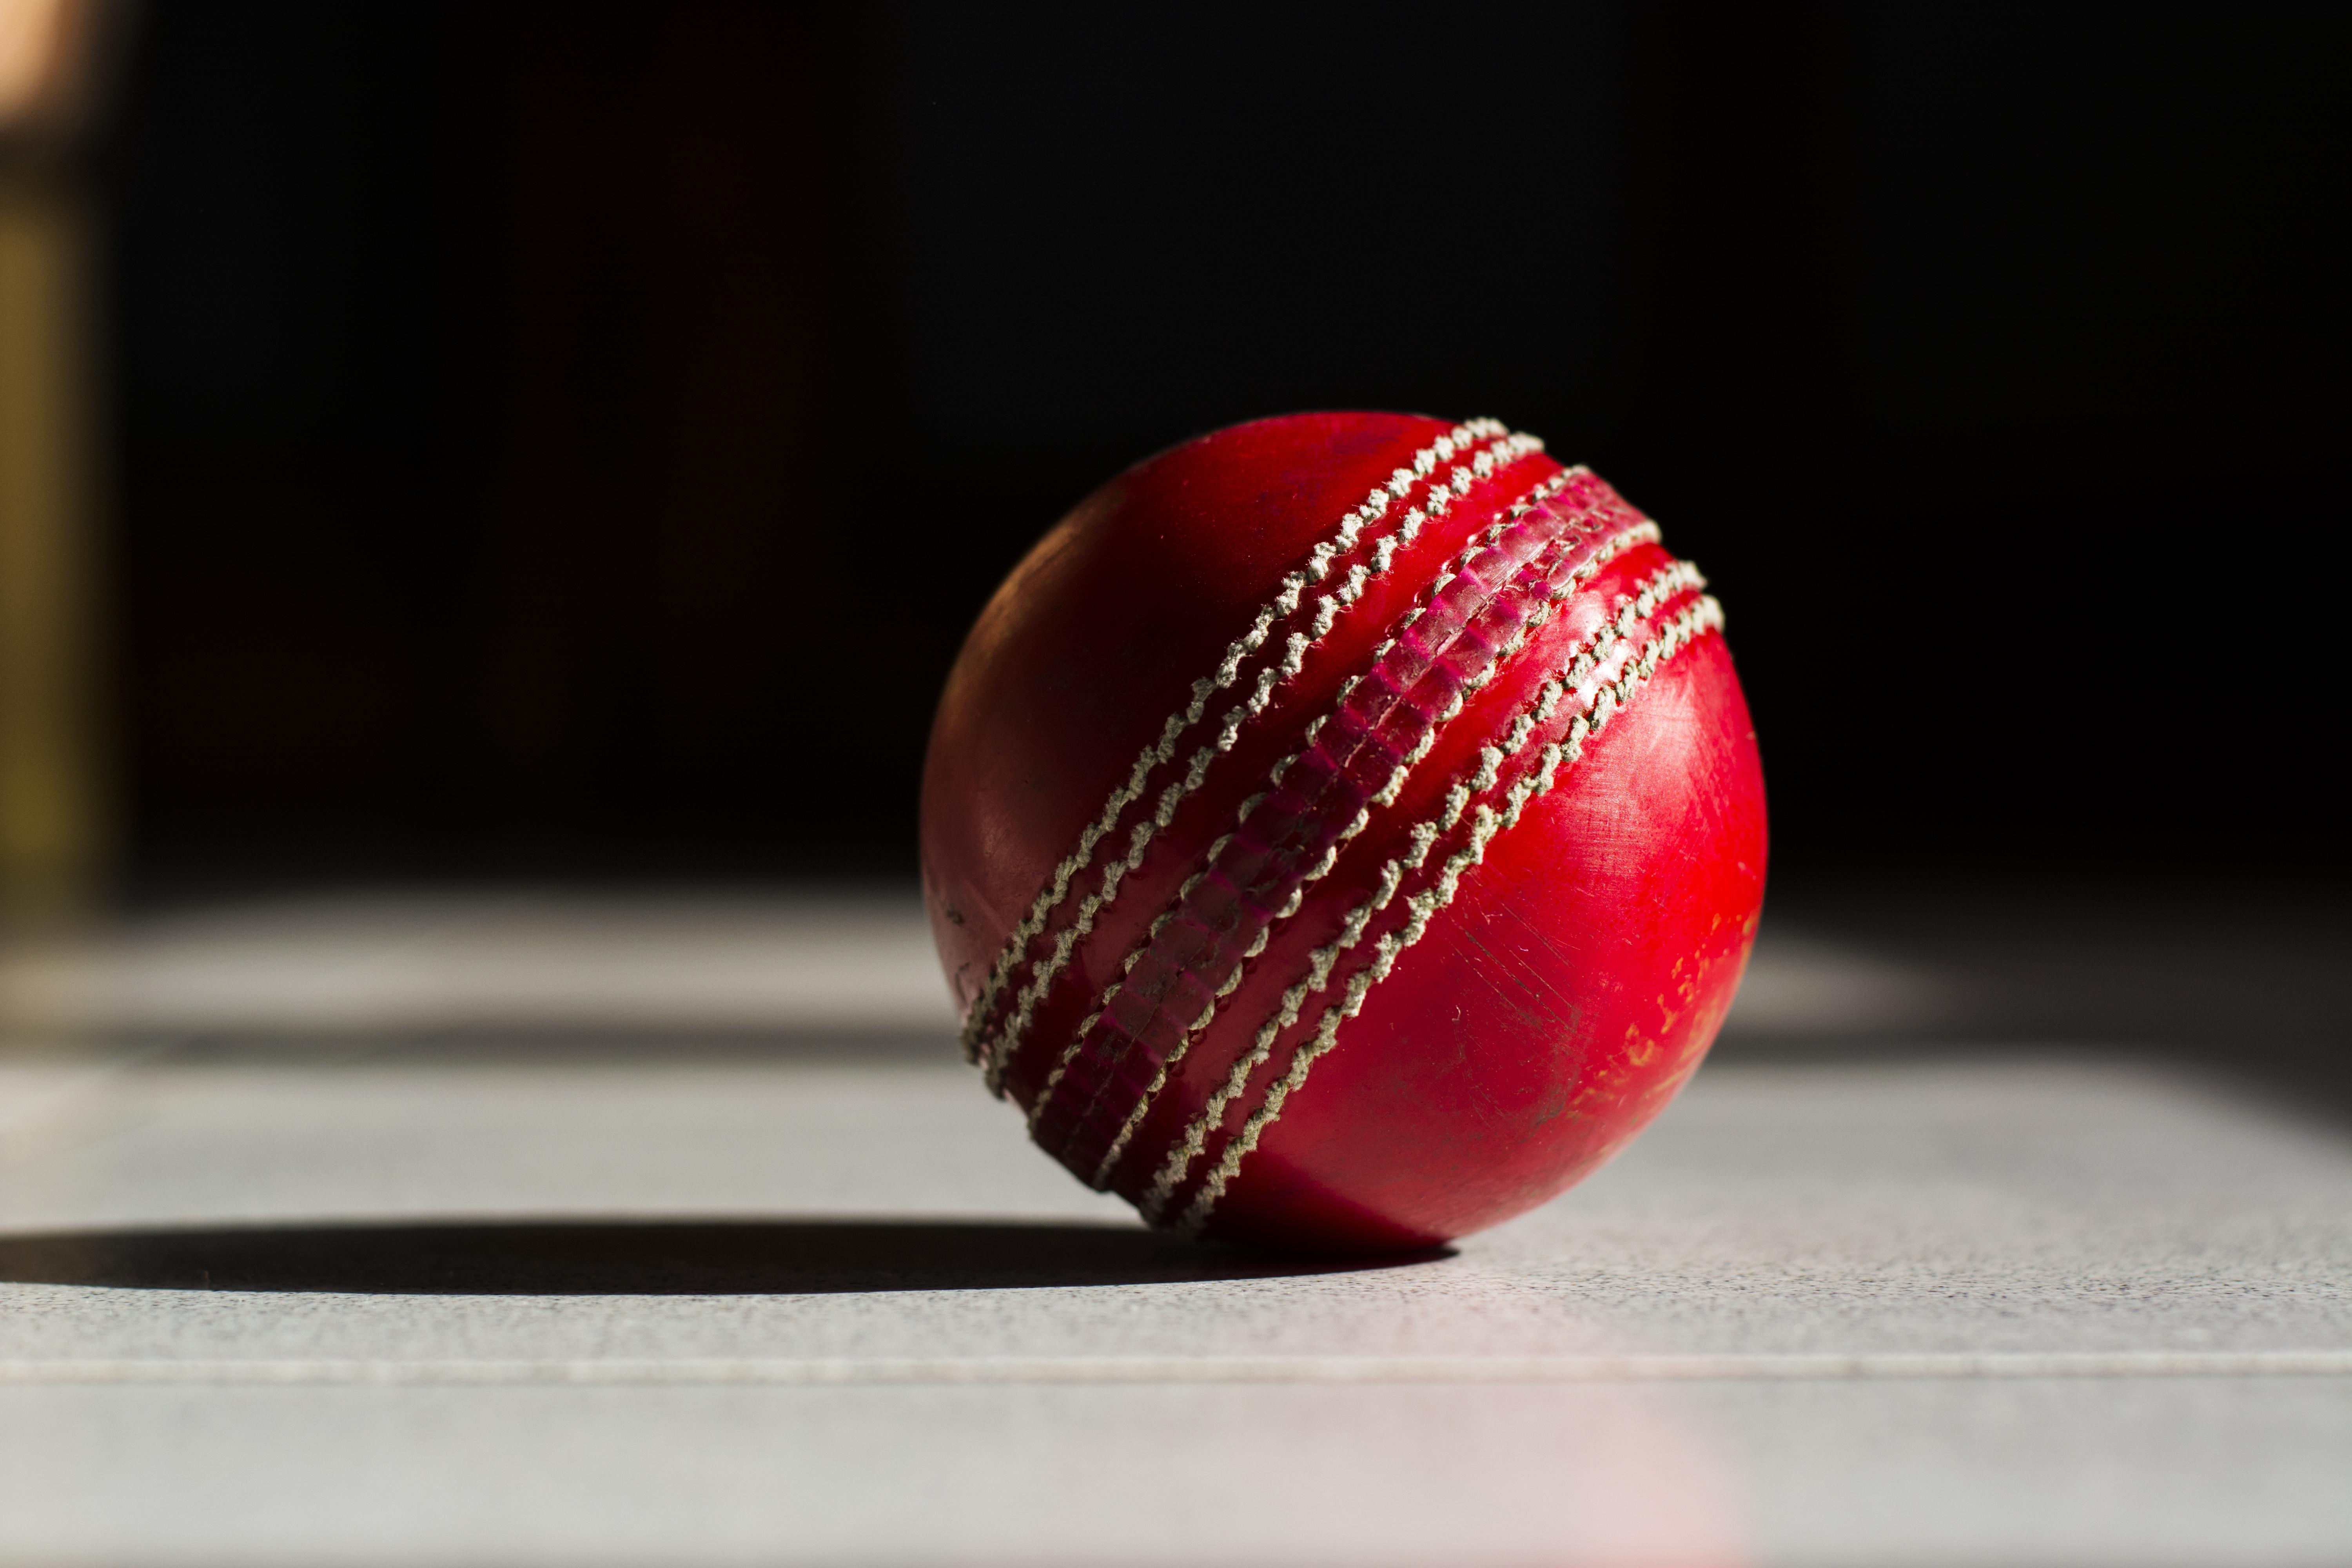Red_Ball: (878, 401, 1776, 1293)
